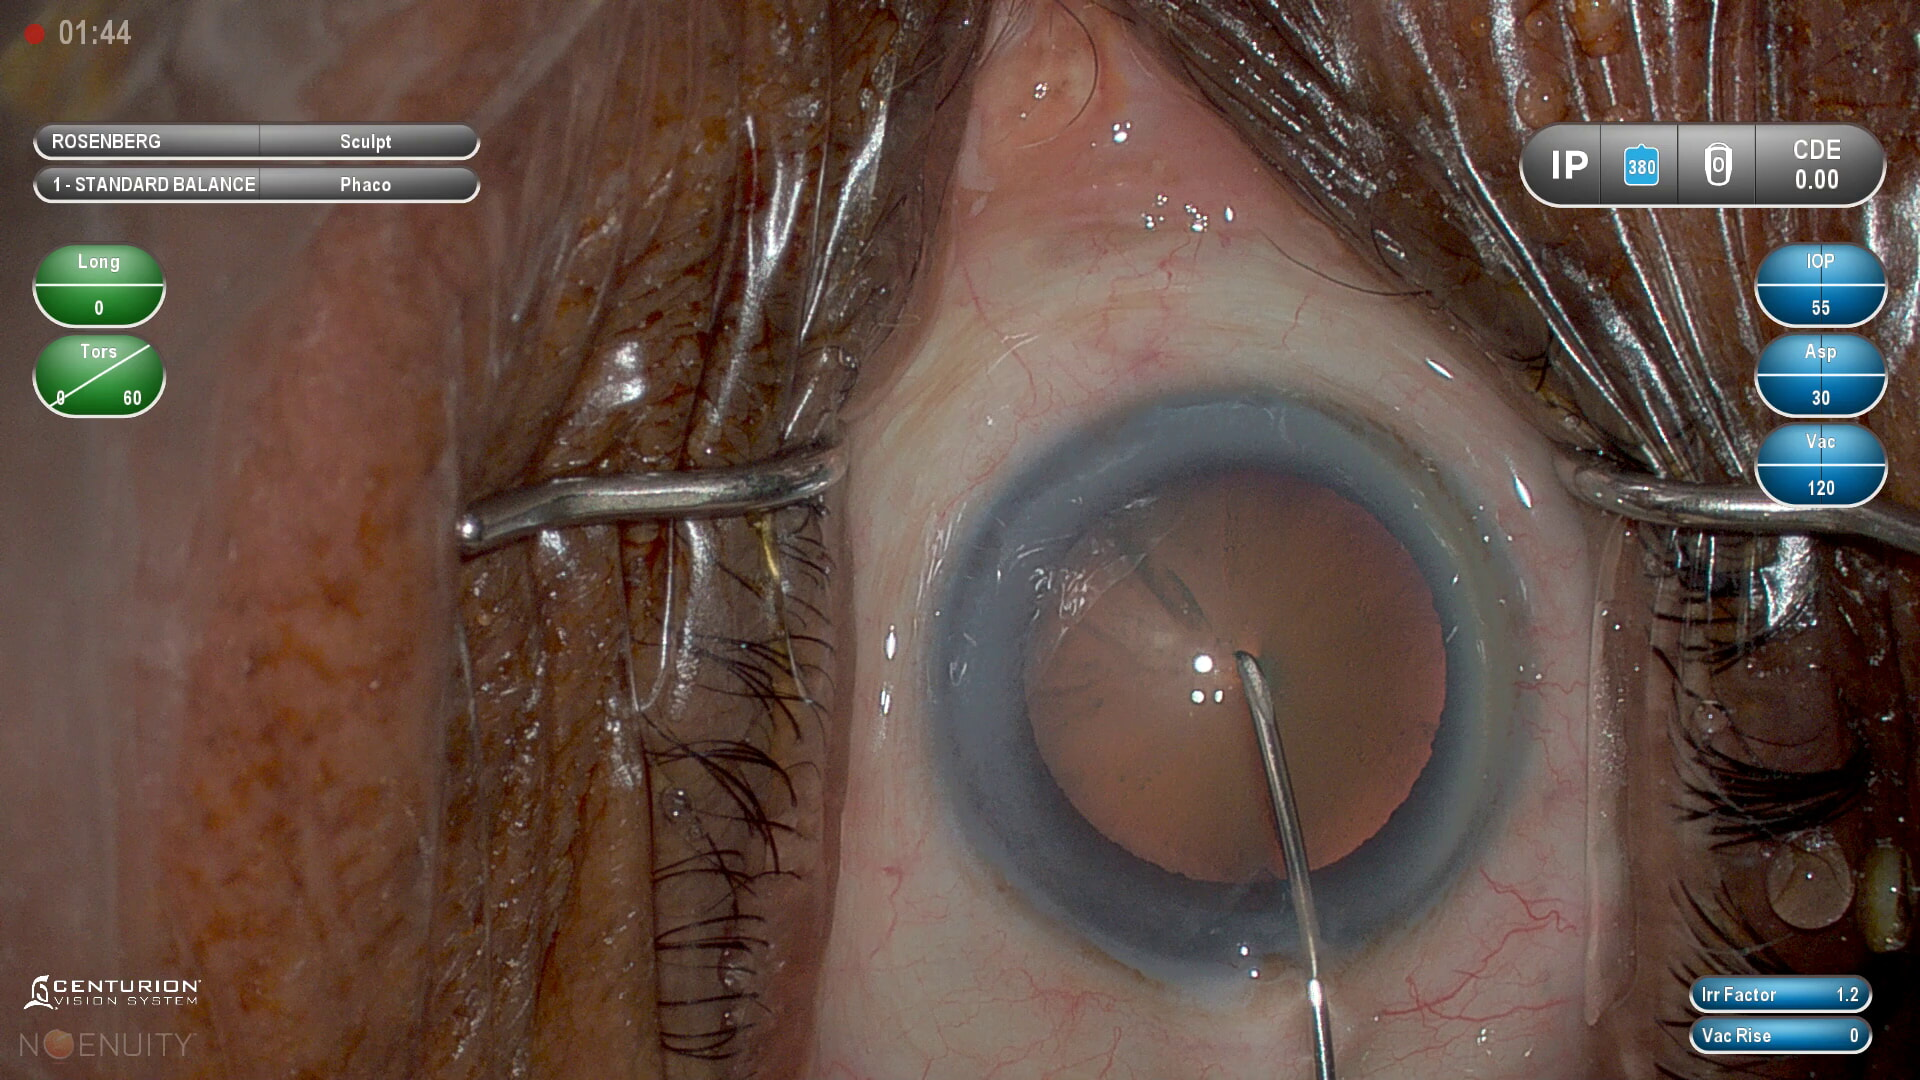iris: (944, 400, 1527, 953)
pupil: (1015, 463, 1447, 885)
